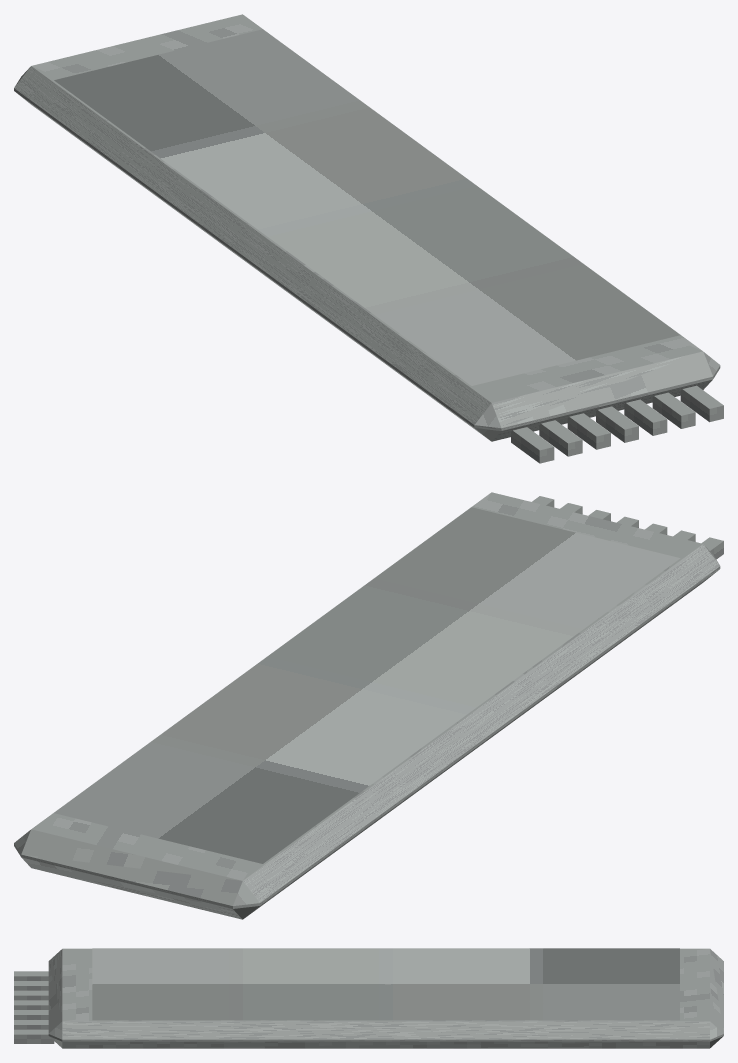
The model's file is long_patchwork_scarf.glb.
3 views of the same model, one above another, from view 1: azimuth 30°, elevation 25°; view 2: azimuth 150°, elevation 25°; view 3: azimuth 270°, elevation 25° (orthographic). The views are drawn at different scales.
Parts seen in each view (by area): view 1: block_stitched cloth panels, block_woven scarf, block_fringe (×7); view 2: block_stitched cloth panels, block_woven scarf; view 3: block_stitched cloth panels, block_woven scarf, block_fringe (×7).
Boxes of the visible parts, <box> form: block_stitched cloth panels: <box>54,29,680,385</box>; block_woven scarf: <box>14,14,720,441</box>; block_fringe (×7): <box>511,385,723,463</box>; block_stitched cloth panels: <box>54,507,680,863</box>; block_woven scarf: <box>14,492,720,919</box>; block_stitched cloth panels: <box>92,948,679,1020</box>; block_woven scarf: <box>48,948,723,1048</box>; block_fringe (×7): <box>14,971,54,1043</box>.
Bounding box in the file's own units: 0.0743 × 0.0115 × 0.264.
Materials: 1 (1 with a texture image).
